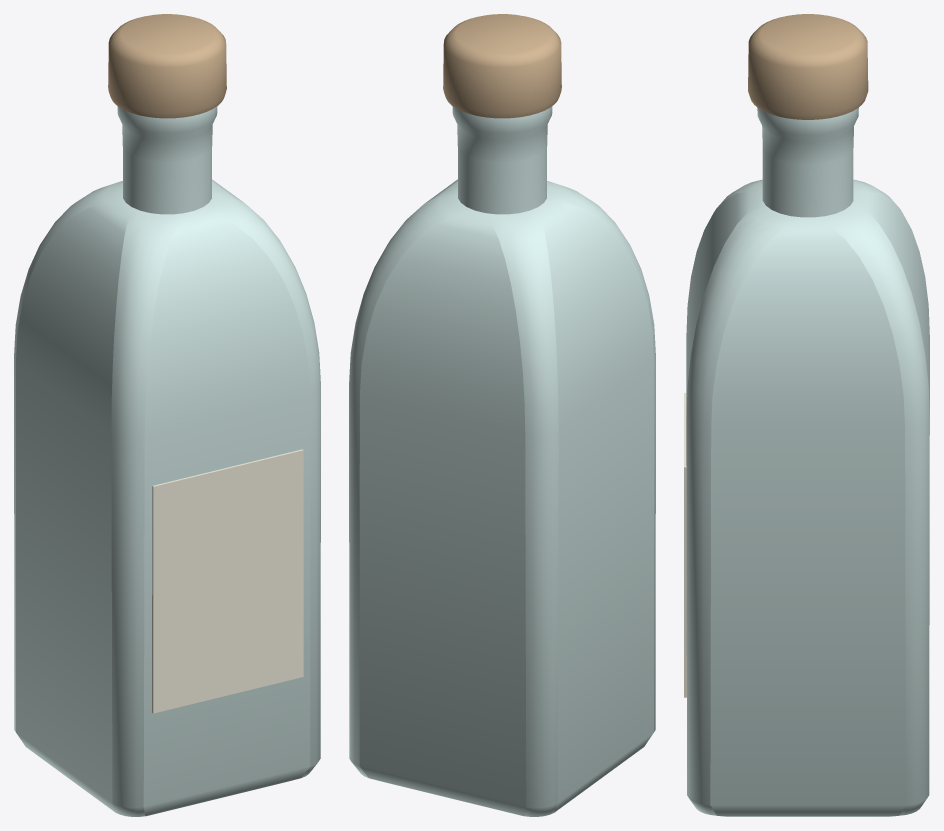
Rendered from container_square.glb.
The picture shows the model from 3 angles, left to right: view 1: azimuth 30°, elevation 25°; view 2: azimuth 150°, elevation 25°; view 3: azimuth 270°, elevation 25°; orthographic projection.
Visible parts, largest first — view 1: Glass, Label, Cap; view 2: Glass, Cap; view 3: Glass, Cap, Label.
Boxes of the visible parts, box(x1,y1,x2,y2) form: Glass: box(14, 106, 320, 816); Label: box(152, 449, 303, 713); Cap: box(108, 14, 226, 118); Glass: box(349, 106, 655, 816); Cap: box(443, 14, 561, 118); Glass: box(686, 107, 929, 816); Cap: box(748, 14, 868, 119); Label: box(684, 393, 686, 697).
Bounding box in the file's own units: 0.0719 × 0.2415 × 0.0725.
